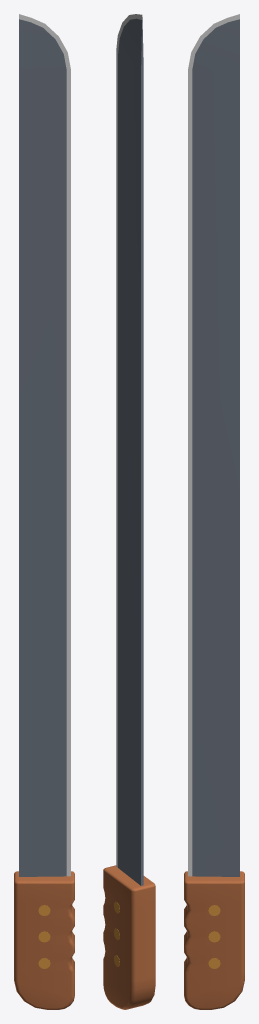
The model's file is Knife_v2.fbx.
3 views of the same model, side by side, from view 1: azimuth 90°, elevation 25°; view 2: azimuth 210°, elevation 25°; view 3: azimuth 270°, elevation 25° (orthographic).
Visible parts, largest first — view 1: Knife_blade, Knife_handle, Knife_blade_piece; view 2: Knife_blade, Knife_handle, Knife_blade_piece; view 3: Knife_blade, Knife_handle, Knife_blade_piece.
Part boxes in pixels (x1,y1,x2,y2): Knife_blade: [19, 14, 70, 857]; Knife_handle: [14, 871, 74, 1009]; Knife_blade_piece: [19, 848, 70, 876]; Knife_blade: [116, 14, 143, 856]; Knife_handle: [103, 865, 155, 1009]; Knife_blade_piece: [116, 844, 143, 885]; Knife_blade: [188, 14, 239, 857]; Knife_handle: [184, 871, 244, 1009]; Knife_blade_piece: [188, 848, 239, 876].
Bounding box in the file's own units: 70.94 × 2690 × 150.
